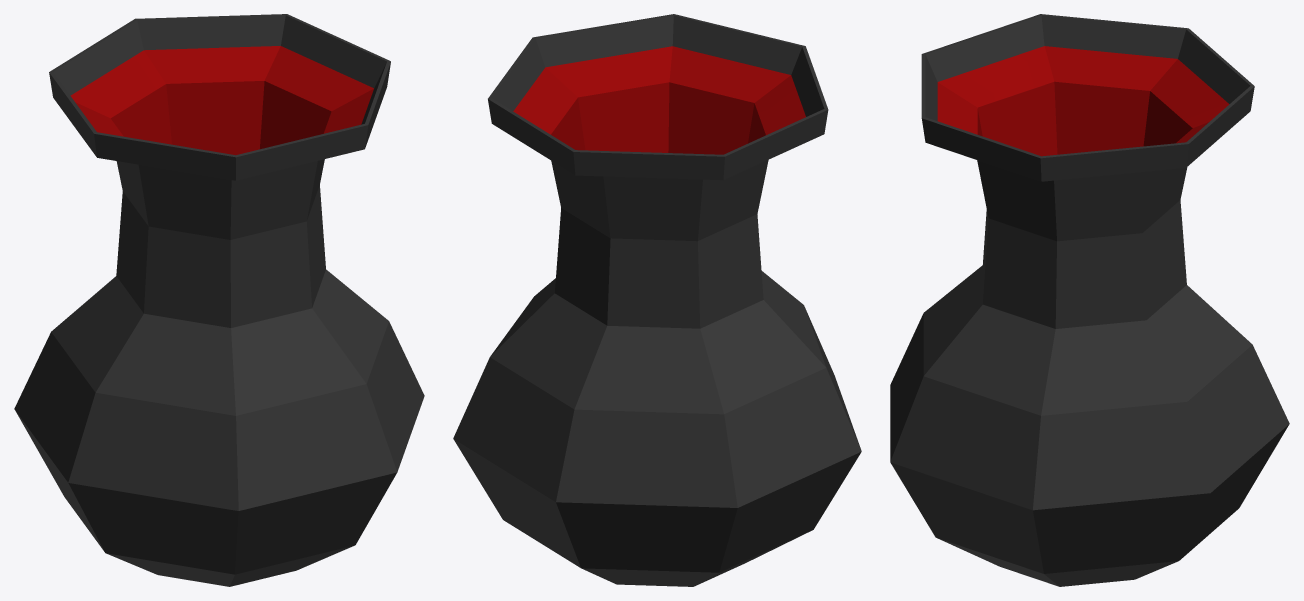
File: Vase.glb
3 views of the same model, side by side, from view 1: azimuth 30°, elevation 25°; view 2: azimuth 150°, elevation 25°; view 3: azimuth 270°, elevation 25° (orthographic).
Parts seen in each view (by area): view 1: Vase_1B; view 2: Vase_1B; view 3: Vase_1B.
Boxes of the visible parts, bbox=[...] form: Vase_1B: bbox=[14, 14, 424, 586]; Vase_1B: bbox=[453, 14, 861, 586]; Vase_1B: bbox=[890, 14, 1289, 586].
Size of the model in its own units: 0.1328 by 0.1662 by 0.1295.
1 material, 1 textured.
